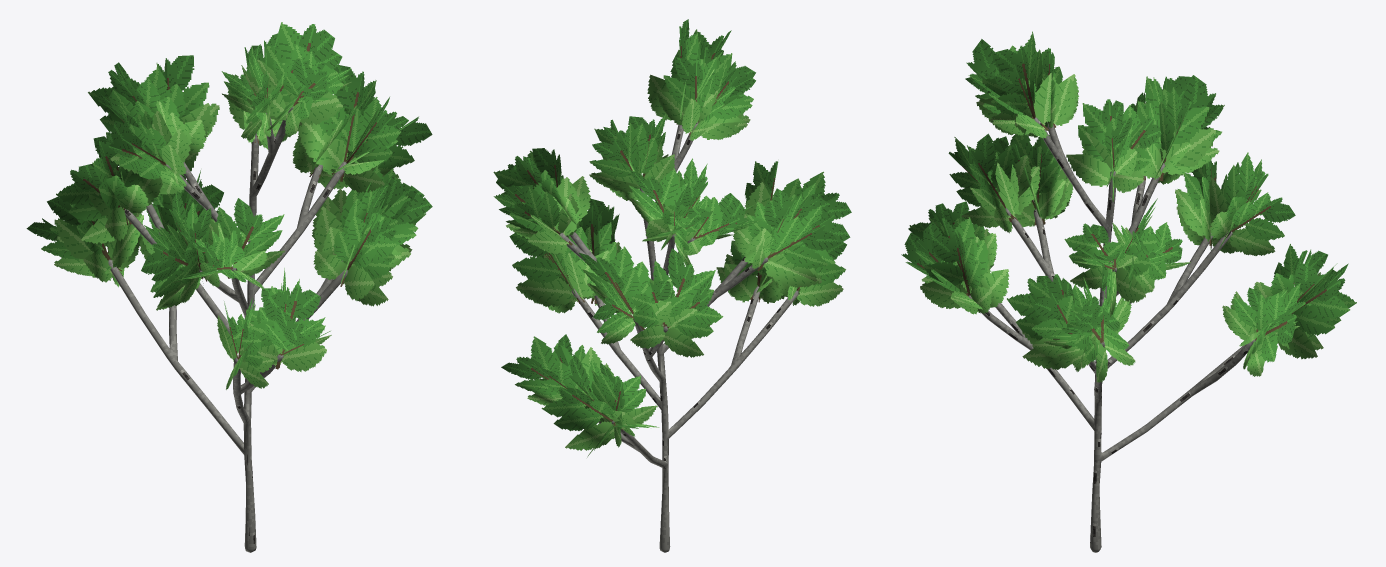
File: environment_elmsapling1_v15.fbx
3 renders of one model, left to right at view 1: azimuth 30°, elevation 25°; view 2: azimuth 150°, elevation 25°; view 3: azimuth 270°, elevation 25°, orthographic. The views are drawn at different scales.
Visible parts, largest first — view 1: environment_elmsapling1_v15_lod0; view 2: environment_elmsapling1_v15_lod0; view 3: environment_elmsapling1_v15_lod0.
Part boxes in pixels (x1,y1,x2,y2): environment_elmsapling1_v15_lod0: (26, 22, 432, 552); environment_elmsapling1_v15_lod0: (493, 19, 851, 552); environment_elmsapling1_v15_lod0: (901, 31, 1356, 552).
Size of what is drawn, in the model's own units: 155 by 231 by 190.
2 materials, 2 textured.
